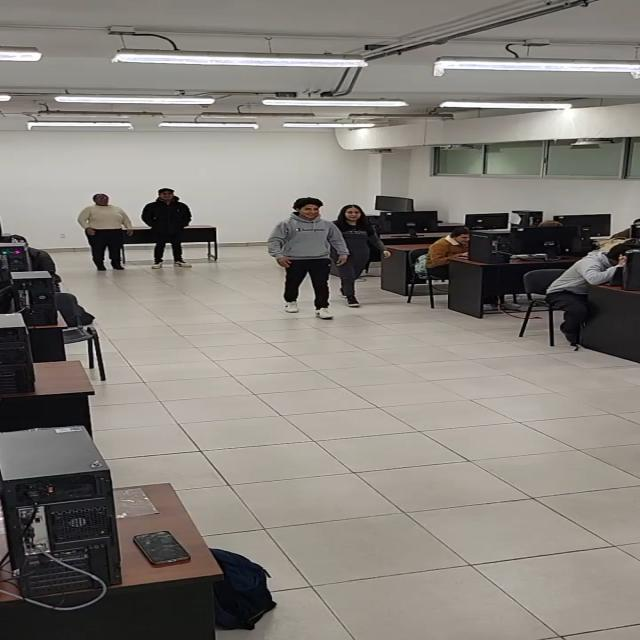Persona: (266, 198, 350, 320), (330, 205, 392, 306), (76, 193, 134, 272), (141, 187, 193, 269)
